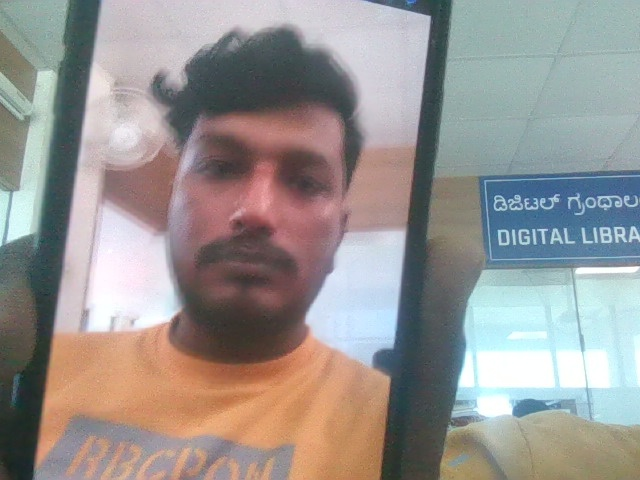fake: (139, 11, 379, 351)
